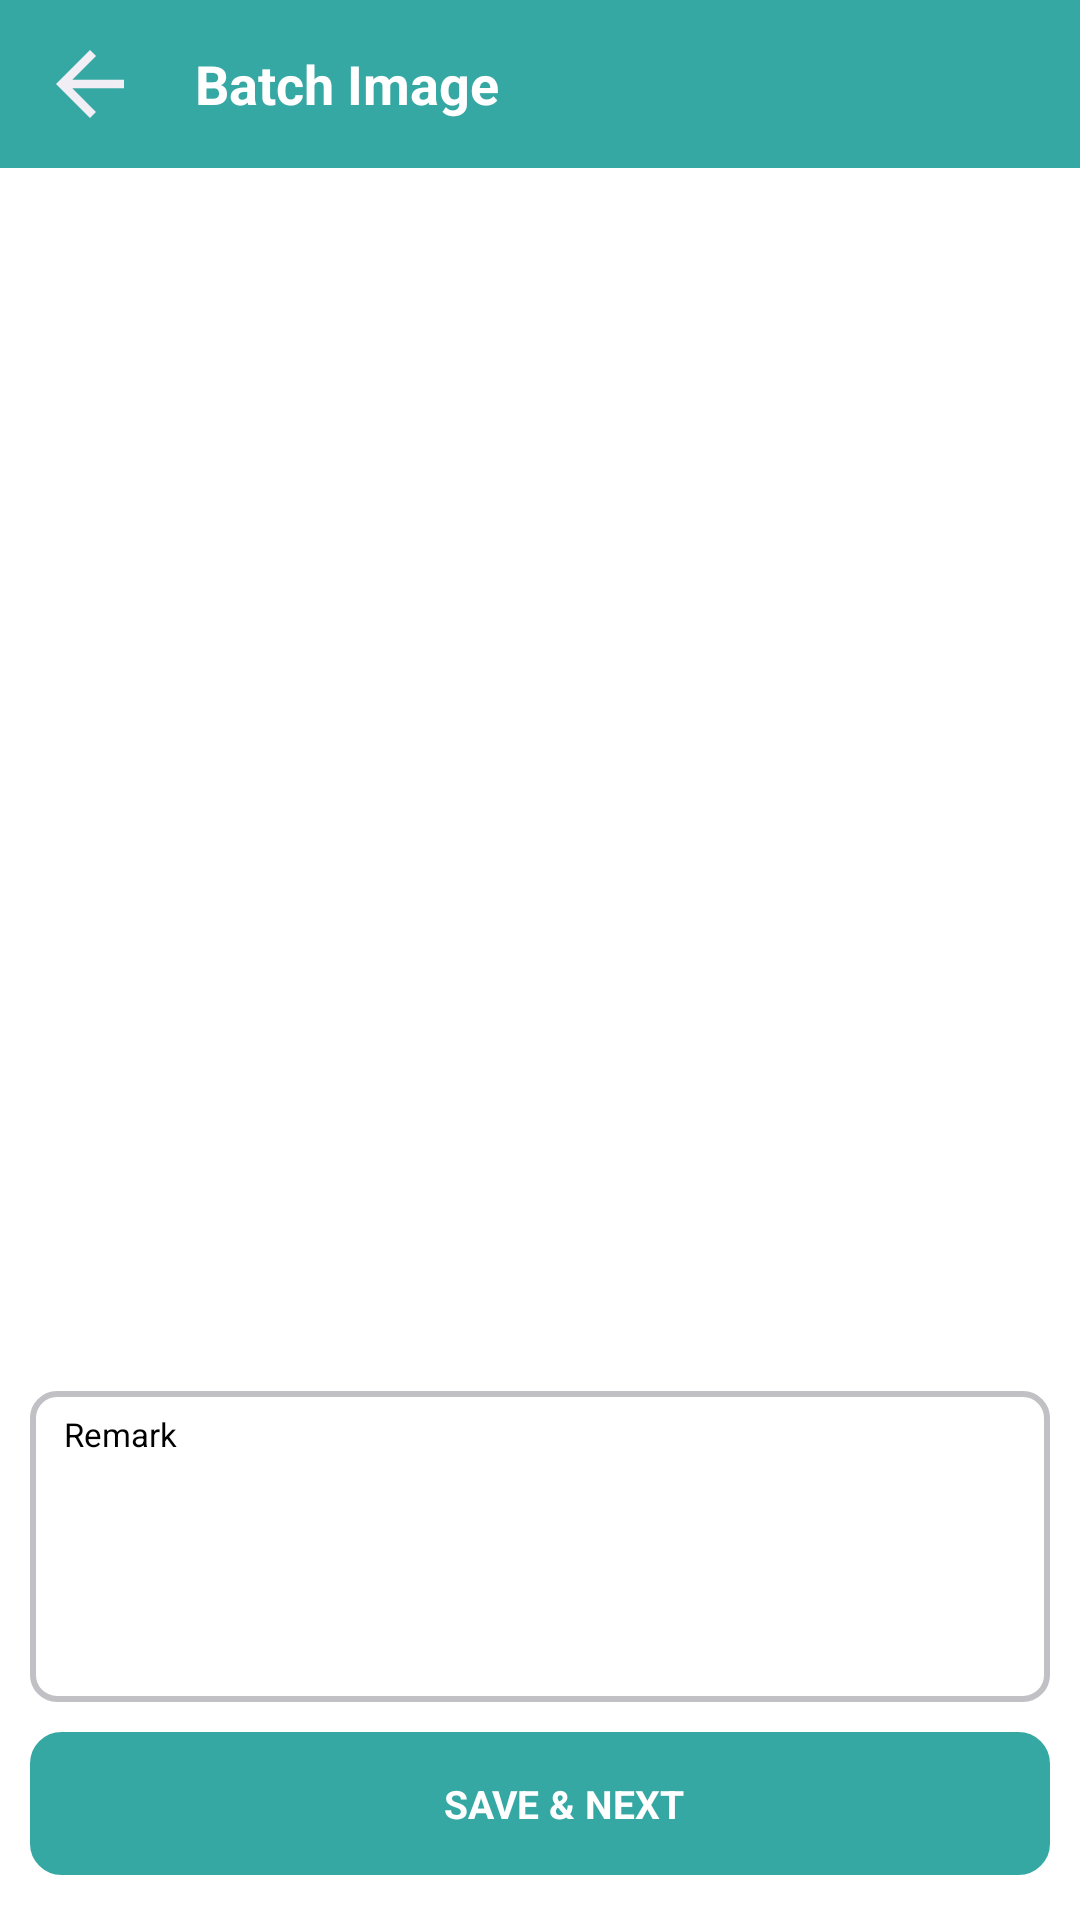

Named icons in this screenshot (1080x1920) and their bounding boxes, (left=x1, top=y1, right=x2, bottom=y2):
arrow back: (left=56, top=50, right=124, bottom=118)
